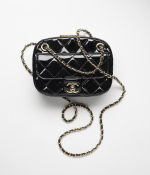channel: (24, 32, 118, 100), (79, 42, 110, 81), (62, 81, 84, 97)
